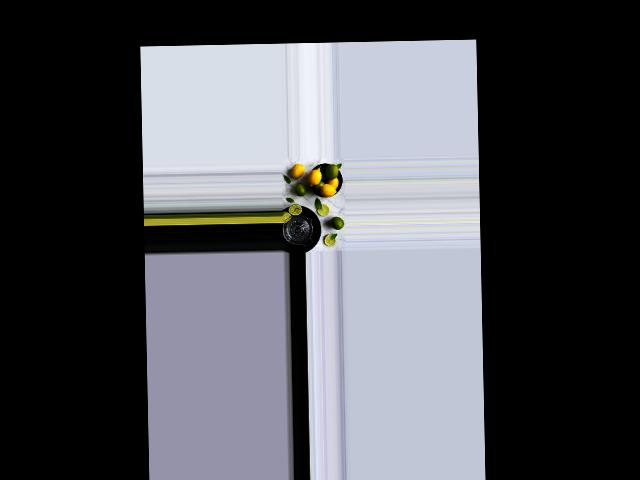lemon: (332, 215, 343, 230)
